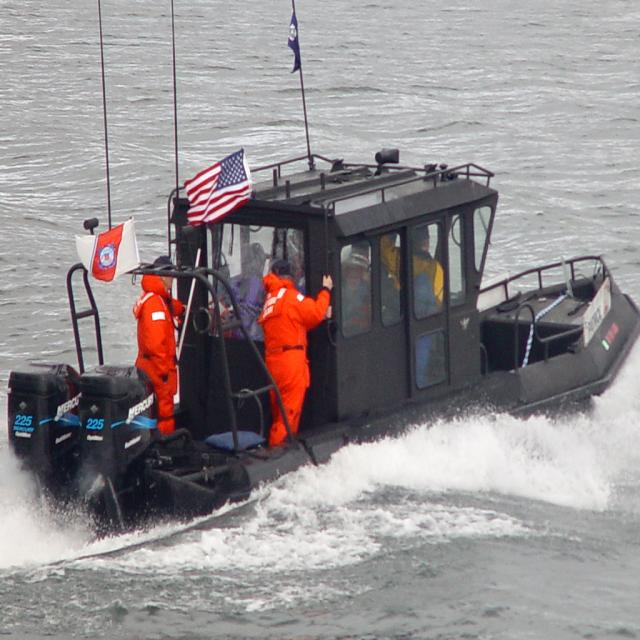Boat: (0, 0, 640, 543)
